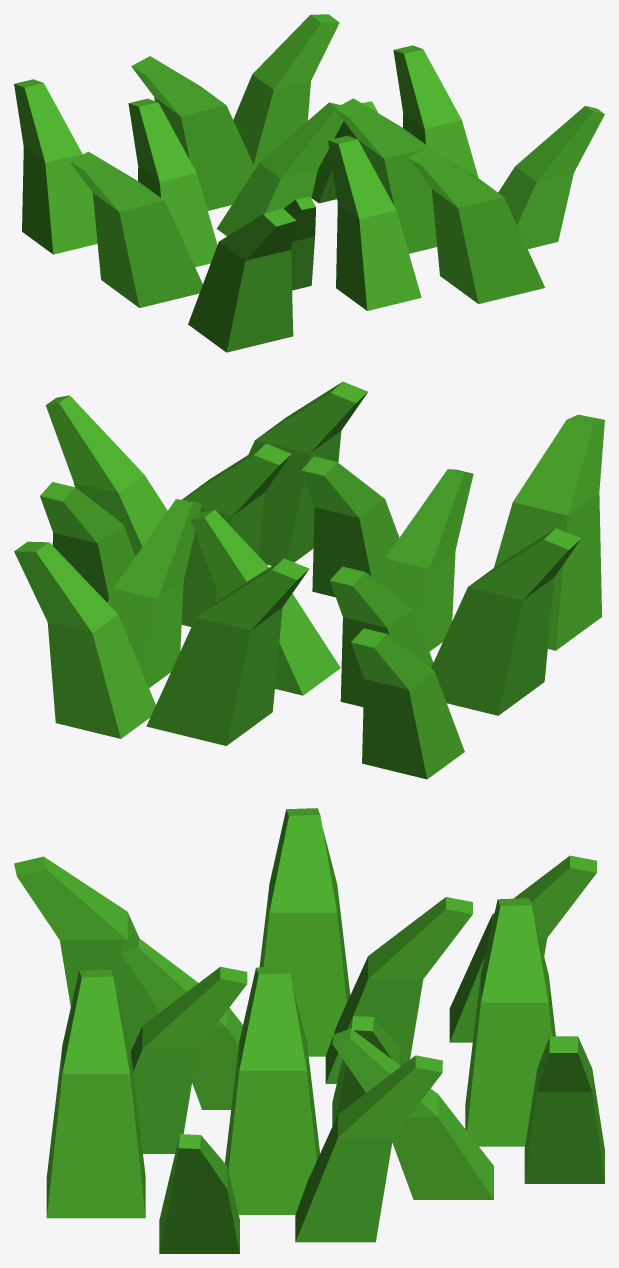
Rendered from grass_2.fbx.
3 renders of one model, top to bottom at view 1: azimuth 30°, elevation 25°; view 2: azimuth 150°, elevation 25°; view 3: azimuth 270°, elevation 25°, orthographic. The views are drawn at different scales.
Visible parts, largest first — view 1: forest_grass_1_LOD0; view 2: forest_grass_1_LOD0; view 3: forest_grass_1_LOD0.
Boxes of the visible parts, x1,y1,x2,y2 form: forest_grass_1_LOD0: [14, 14, 604, 352]; forest_grass_1_LOD0: [14, 381, 604, 779]; forest_grass_1_LOD0: [14, 808, 604, 1253].
Size of what is drawn, in the model's own units: 455 by 130 by 377.
